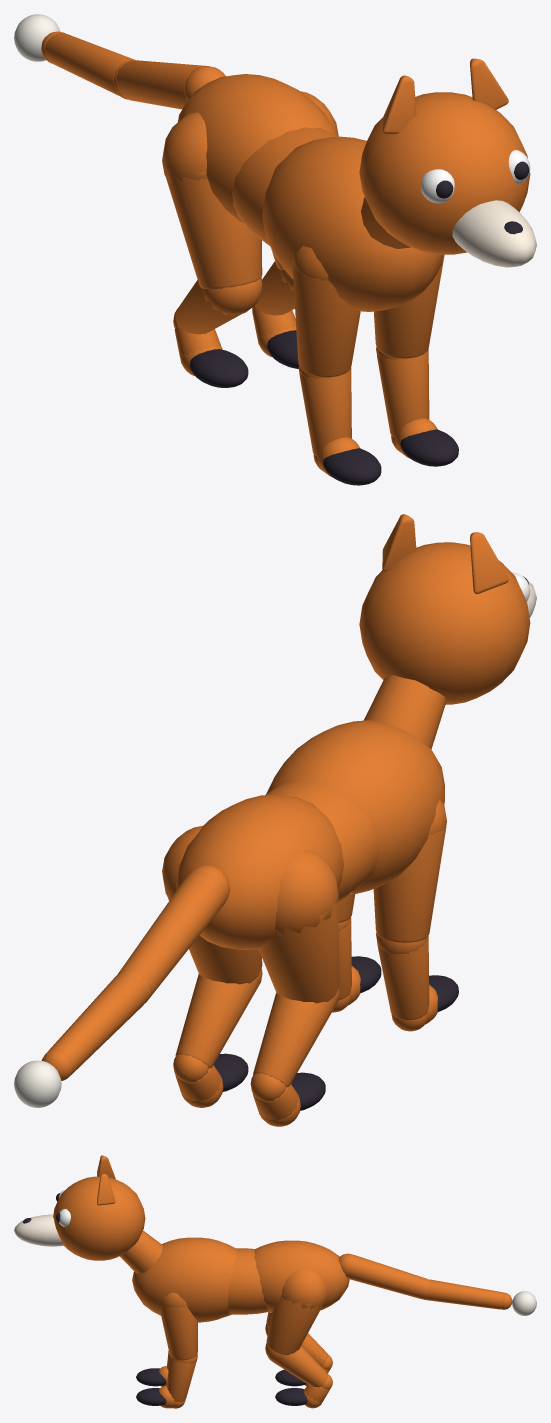
File: fox.glb
3 views of the same model, one above another, from view 1: azimuth 30°, elevation 25°; view 2: azimuth 150°, elevation 25°; view 3: azimuth 270°, elevation 25° (orthographic). The views are drawn at different scales.
Parts seen in each view (by area): view 1: fox; view 2: fox; view 3: fox.
Boxes of the visible parts, <box> form: fox: <box>14,14,536,485</box>; fox: <box>14,514,536,1126</box>; fox: <box>14,1155,536,1408</box>.
Bounding box in the file's own units: 0.3816 × 0.9899 × 2.02.
